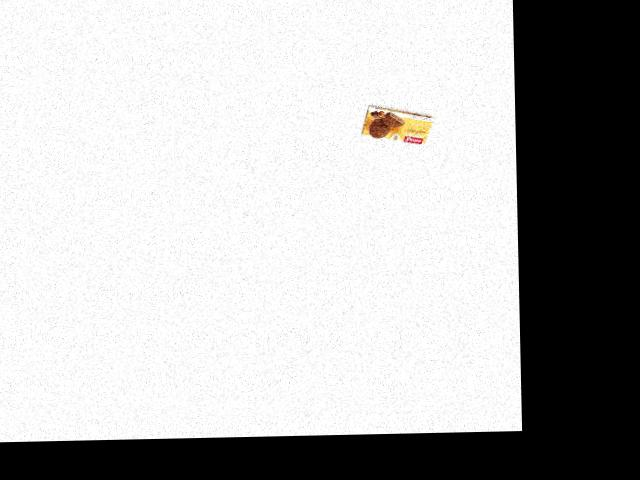chocolate: (356, 110, 445, 147)
